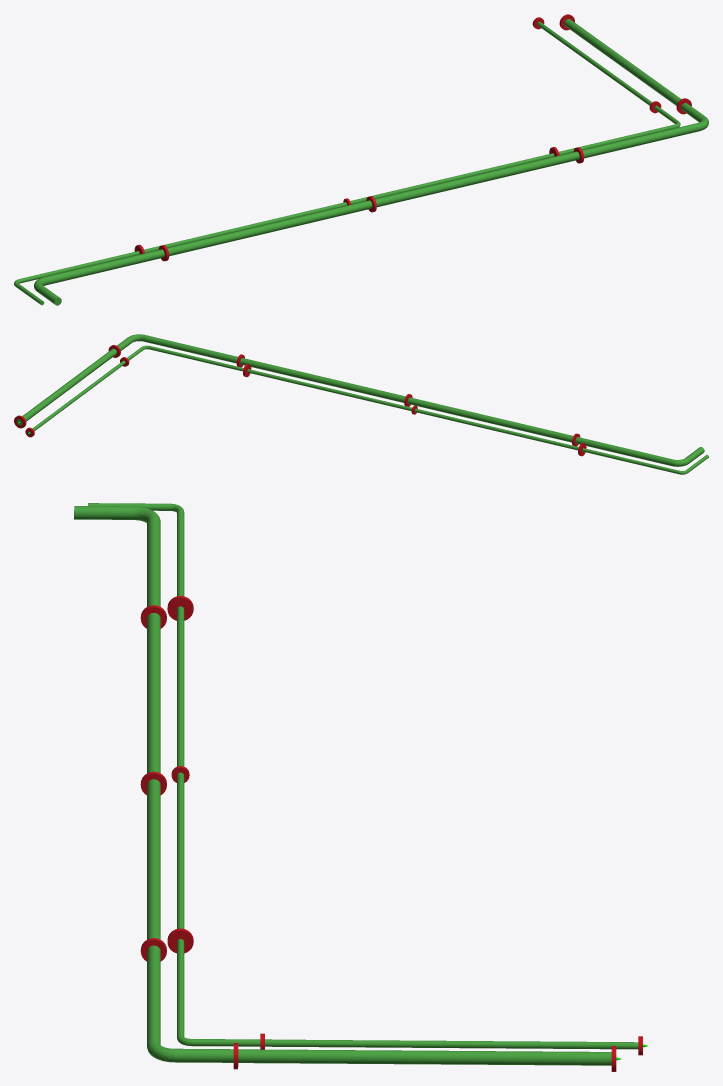
File: Phase40c.fbx
3 views of the same model, one above another, from view 1: azimuth 30°, elevation 25°; view 2: azimuth 150°, elevation 25°; view 3: azimuth 270°, elevation 25° (orthographic). The views are drawn at different scales.
Visible parts, largest first — view 1: Типы трубопроводов:Труба:256991 (×3), Типы трубопроводов:Труба:282234, Типы трубопроводов:Труба:282307, Типы трубопроводов:Труба:281873, Типы трубопроводов:Труба:281818, Типы трубопроводов:Труба:283026, Типы трубопроводов:Труба:283188, Типы трубопроводов:Труба:282122; view 2: Типы трубопроводов:Труба:256991 (×3), Типы трубопроводов:Труба:282307, Типы трубопроводов:Труба:282234, Типы трубопроводов:Труба:281873, Типы трубопроводов:Труба:281818, Типы трубопроводов:Труба:283026, Типы трубопроводов:Труба:283188, Типы трубопроводов:Труба:282122; view 3: Типы трубопроводов:Труба:256991 (×2), Типы трубопроводов:Труба:282234, Типы трубопроводов:Труба:282307, Типы трубопроводов:Труба:281818, Типы трубопроводов:Труба:283188, Типы трубопроводов:Труба:281873, Типы трубопроводов:Труба:283026.
Boxes of the visible parts, x1,y1,x2,y2 form: Типы трубопроводов:Труба:256991 (×3): [537, 19, 681, 155]; Типы трубопроводов:Труба:282234: [375, 151, 579, 207]; Типы трубопроводов:Труба:282307: [167, 200, 372, 256]; Типы трубопроводов:Труба:281873: [44, 249, 164, 285]; Типы трубопроводов:Труба:281818: [582, 123, 700, 158]; Типы трубопроводов:Труба:283026: [350, 153, 554, 204]; Типы трубопроводов:Труба:283188: [144, 202, 347, 253]; Типы трубопроводов:Труба:282122: [19, 251, 139, 283]; Типы трубопроводов:Труба:256991 (×3): [16, 346, 243, 434]; Типы трубопроводов:Труба:282307: [407, 397, 573, 442]; Типы трубопроводов:Труба:282234: [240, 358, 405, 402]; Типы трубопроводов:Труба:281873: [575, 437, 672, 465]; Типы трубопроводов:Труба:281818: [142, 335, 237, 363]; Типы трубопроводов:Труба:283026: [247, 369, 411, 411]; Типы трубопроводов:Труба:283188: [414, 408, 578, 450]; Типы трубопроводов:Труба:282122: [582, 448, 679, 474]; Типы трубопроводов:Труба:256991 (×2): [238, 1039, 638, 1065]; Типы трубопроводов:Труба:282234: [147, 779, 160, 939]; Типы трубопроводов:Труба:282307: [147, 613, 160, 773]; Типы трубопроводов:Труба:281818: [147, 945, 160, 1044]; Типы трубопроводов:Труба:283188: [177, 606, 184, 766]; Типы трубопроводов:Труба:281873: [147, 516, 160, 613]; Типы трубопроводов:Труба:283026: [177, 772, 184, 928].
Bounding box in the file's own units: 10193 × 4506 × 296.
